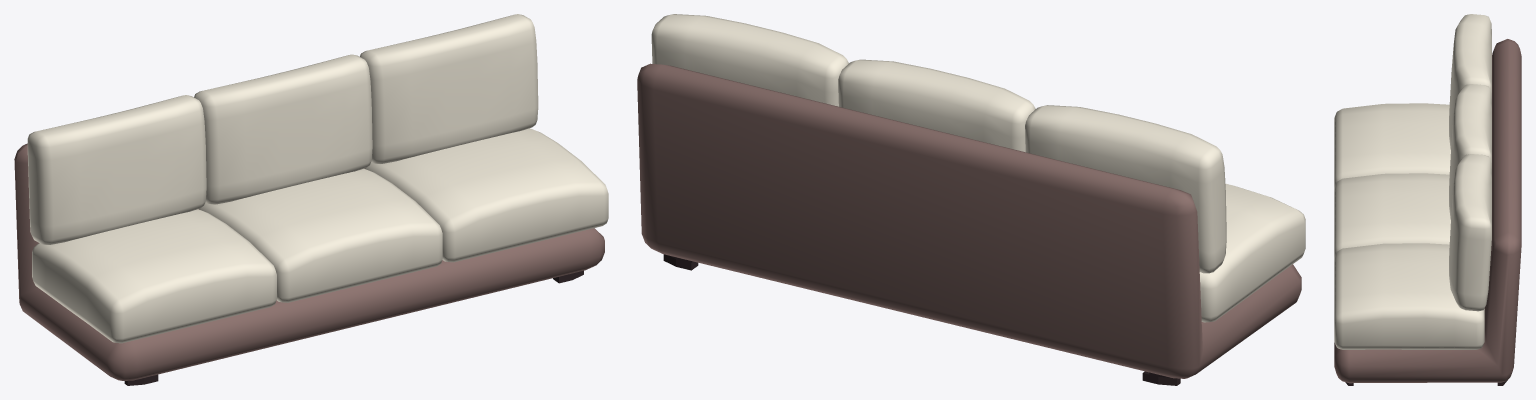
Rendered from Prop_Sofa_03_D.fbx.
3 renders of one model, left to right at view 1: azimuth 30°, elevation 25°; view 2: azimuth 150°, elevation 25°; view 3: azimuth 270°, elevation 25°, orthographic. The views are drawn at different scales.
Parts seen in each view (by area): view 1: Prop_Sofa_03_D; view 2: Prop_Sofa_03_D; view 3: Prop_Sofa_03_D.
Part boxes in pixels (<box>): Prop_Sofa_03_D: <box>14,14,608,385</box>; Prop_Sofa_03_D: <box>637,14,1305,385</box>; Prop_Sofa_03_D: <box>1334,14,1521,385</box>.
Bounding box in the file's own units: 258 × 101 × 97.43.
